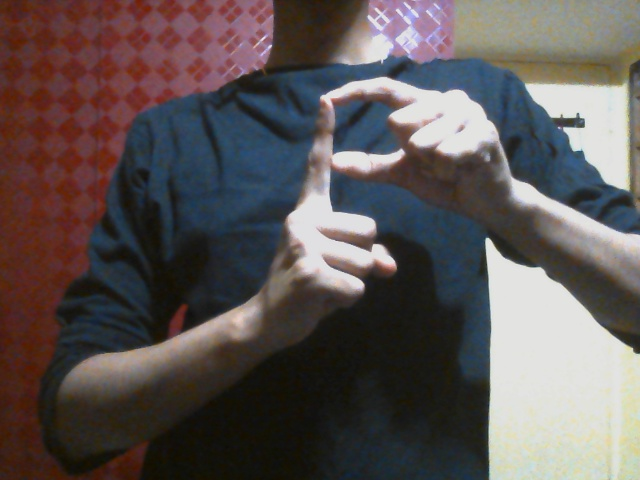P: (268, 78, 488, 352)
